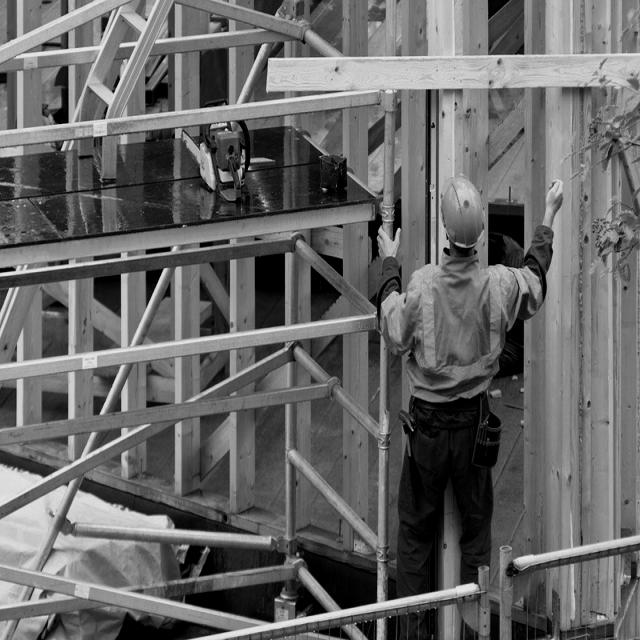hand_noglove: (536, 173, 569, 224), (372, 221, 401, 266)
head_helmet: (439, 172, 486, 247)
person: (377, 173, 564, 600)
vest: (404, 255, 508, 406)
